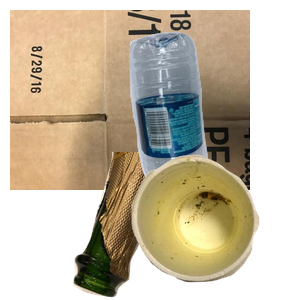cardboard: (10, 10, 250, 190)
glass: (71, 152, 260, 300)
plastic: (127, 29, 300, 209)
trash: (129, 152, 300, 300)
